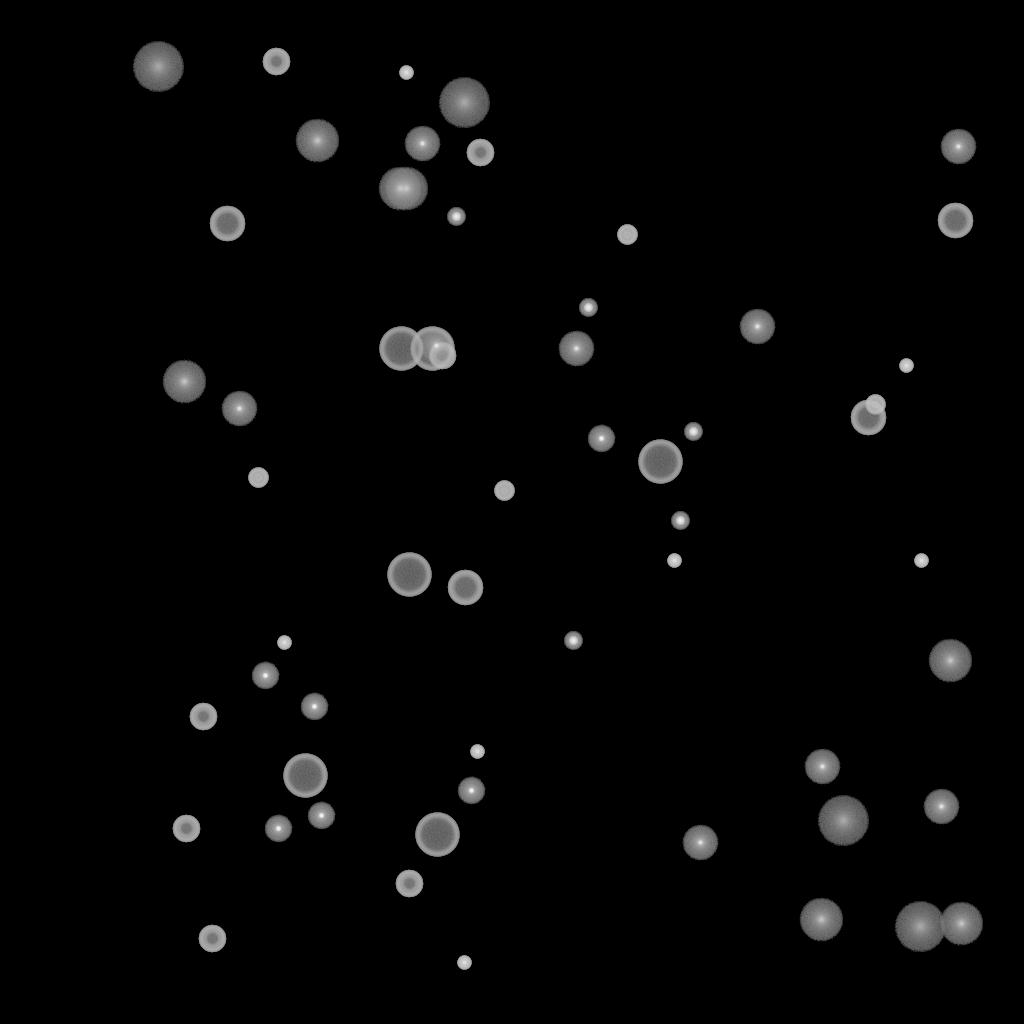depth:-10: (300, 693, 328, 721), (264, 815, 292, 843), (307, 802, 335, 830), (251, 662, 279, 690), (457, 777, 485, 805), (587, 425, 615, 453)
depth:-20: (564, 632, 582, 650), (447, 208, 465, 226), (671, 512, 689, 530), (579, 299, 597, 317), (684, 423, 702, 441)
depth:-30: (899, 359, 913, 373), (457, 956, 471, 970), (667, 554, 681, 568), (277, 636, 291, 650), (470, 745, 484, 759), (399, 66, 413, 80), (914, 554, 928, 568)
depth:-40: (865, 395, 885, 415), (248, 468, 268, 488), (494, 481, 514, 501), (617, 225, 637, 245)
depth:-50: (428, 342, 456, 370), (172, 815, 200, 843), (189, 703, 217, 731), (198, 925, 226, 953), (262, 48, 290, 76), (395, 870, 423, 898), (466, 139, 494, 167)
depth:-60: (209, 206, 245, 242), (937, 203, 973, 239), (447, 570, 483, 606), (850, 400, 886, 436)
depth:-70: (415, 813, 459, 857), (387, 553, 431, 597), (379, 327, 423, 371), (638, 440, 682, 484), (283, 754, 327, 798), (410, 327, 454, 371)
depth:0: (739, 309, 775, 345), (804, 749, 840, 785), (940, 129, 976, 165), (558, 331, 594, 367), (923, 789, 959, 825), (221, 391, 257, 427), (682, 825, 718, 861), (404, 126, 440, 162), (418, 328, 454, 364)
depth:10: (162, 360, 206, 404), (378, 167, 422, 211), (939, 902, 983, 946), (799, 898, 843, 942), (295, 119, 339, 163), (384, 167, 428, 211), (928, 639, 972, 683)
depth:20: (894, 902, 946, 952), (132, 42, 184, 92), (817, 796, 869, 846), (438, 78, 490, 128)
